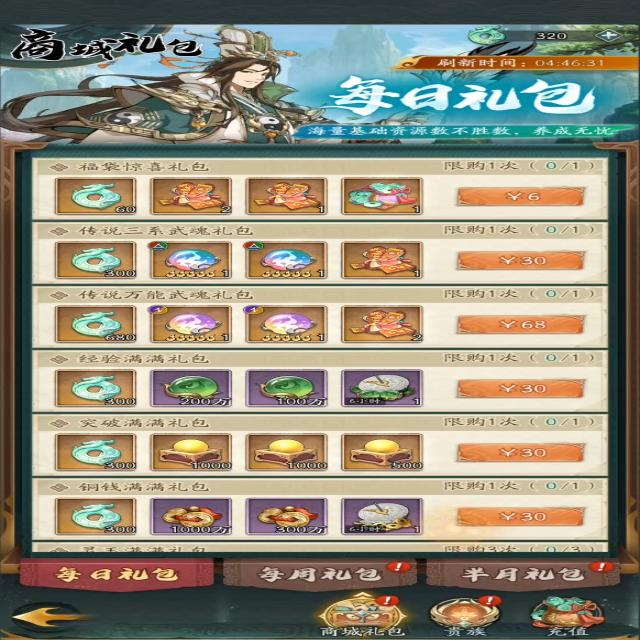hint-reddot: (476, 593, 506, 610), (586, 560, 616, 574), (376, 595, 401, 607)
operation-DailyGiftPack: (17, 560, 215, 593)
operation-HalfMonthGiftPack: (423, 558, 621, 592)
operation-WeeklyGiftPack: (224, 557, 416, 592)
operation-back: (6, 600, 91, 632)
operation-buy: (451, 442, 592, 466), (450, 185, 590, 208), (454, 380, 587, 400), (456, 507, 586, 527), (456, 314, 590, 333), (455, 251, 587, 270)
ref-buytext: (39, 284, 260, 303), (43, 221, 258, 238), (40, 475, 214, 495), (40, 414, 216, 433), (44, 352, 228, 368), (43, 159, 213, 175)
